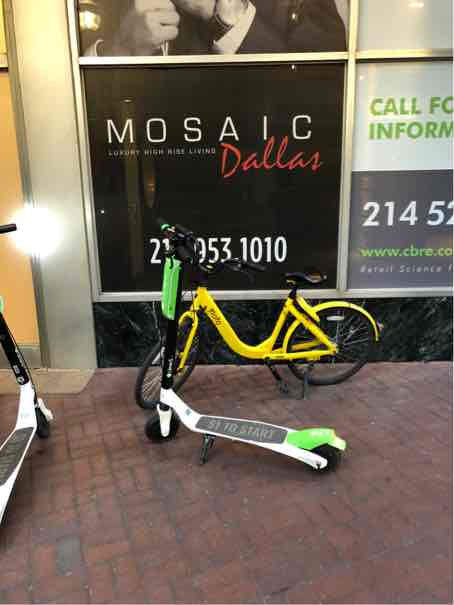scooter: (148, 208, 338, 477)
